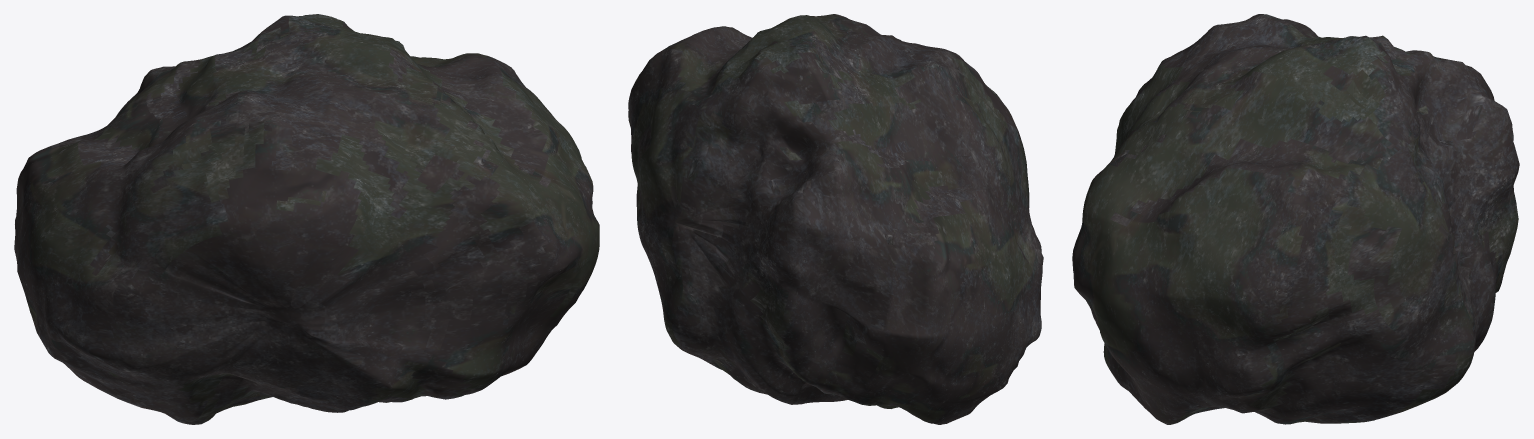
The model's file is asteroid.fbx.
The picture shows the model from 3 angles, left to right: view 1: azimuth 30°, elevation 25°; view 2: azimuth 150°, elevation 25°; view 3: azimuth 270°, elevation 25°; orthographic projection. The views are drawn at different scales.
Parts seen in each view (by area): view 1: pasted__pasted__pSphere2; view 2: pasted__pasted__pSphere2; view 3: pasted__pasted__pSphere2.
Boxes of the visible parts, x1,y1,x2,y2 form: pasted__pasted__pSphere2: (14,14,599,424); pasted__pasted__pSphere2: (628,14,1043,424); pasted__pasted__pSphere2: (1072,14,1519,424).
Size of the model in its own units: 639 by 474 by 520.
